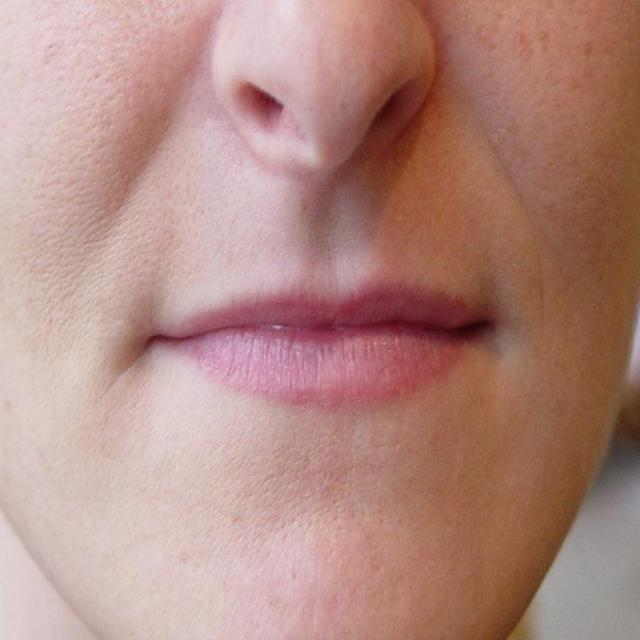Wrinkles: (473, 100, 550, 354)
